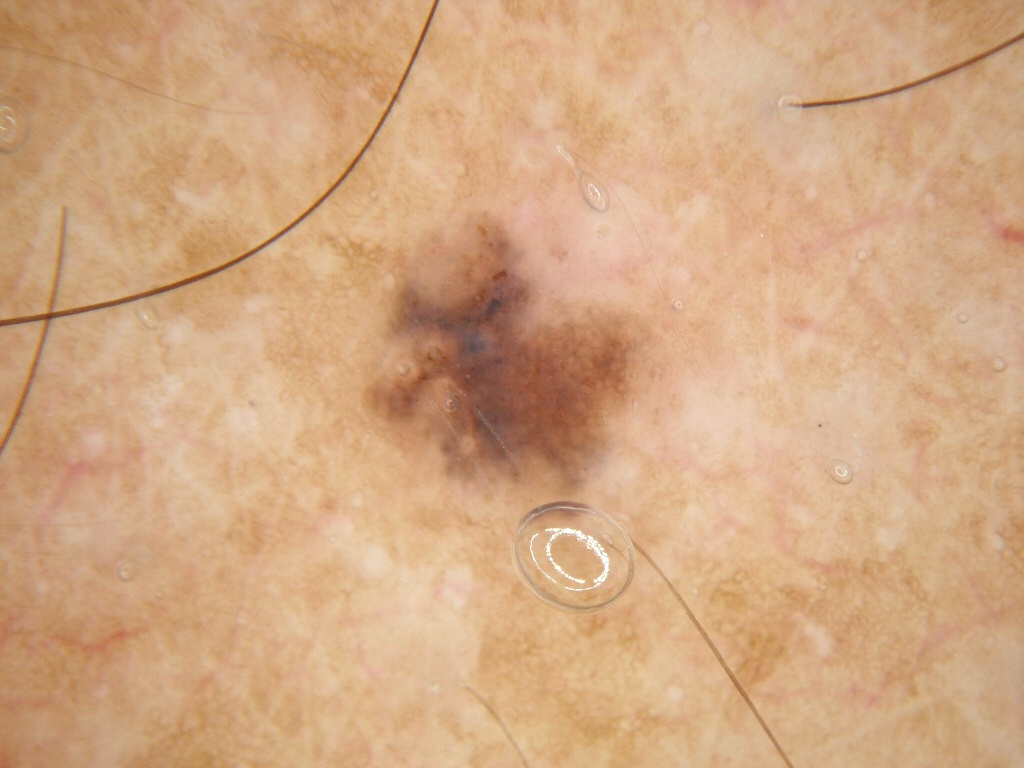Detected Lesion: (359, 215, 652, 499)
